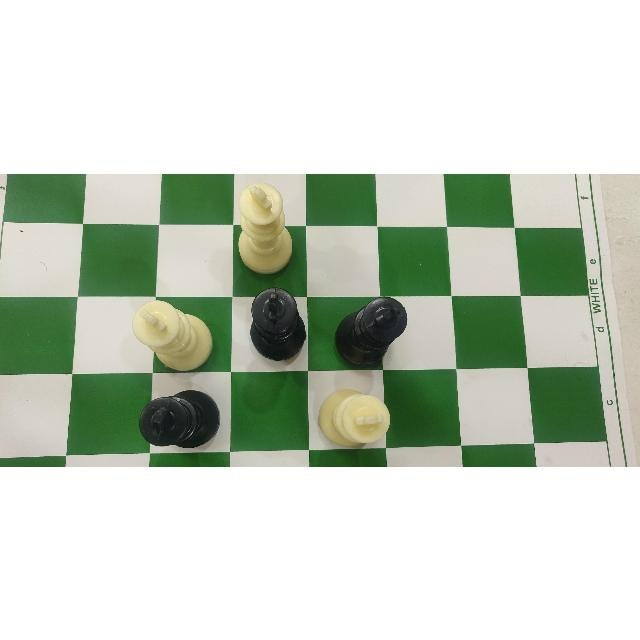black-king: (333, 287, 411, 366), (236, 289, 312, 367), (137, 386, 219, 454)
white-king: (227, 180, 299, 274), (133, 292, 217, 372), (318, 383, 394, 453)
